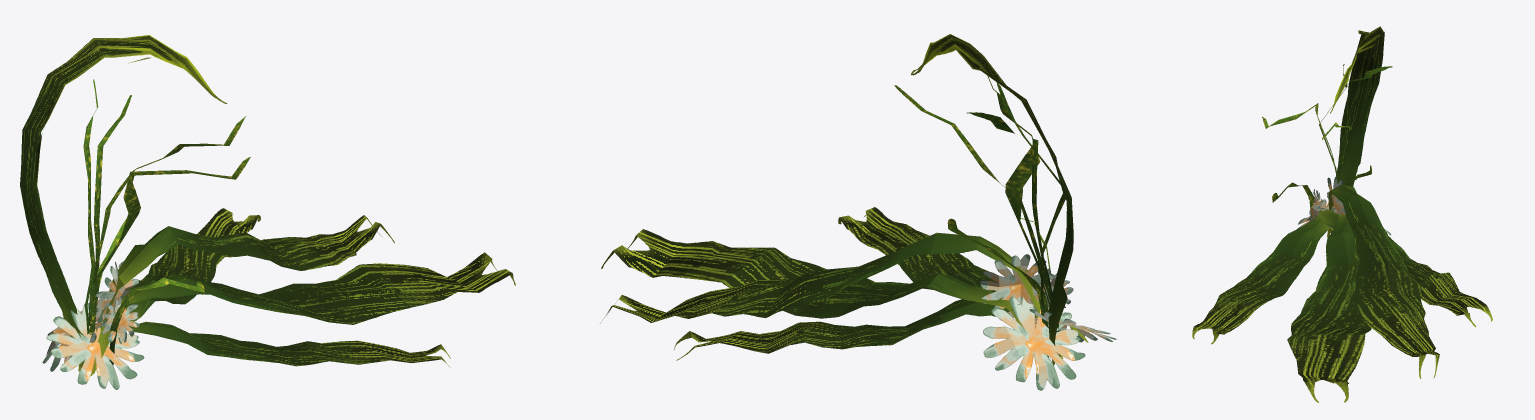
3 views of the same model, side by side, from view 1: azimuth 30°, elevation 25°; view 2: azimuth 150°, elevation 25°; view 3: azimuth 270°, elevation 25° (orthographic). The views are drawn at different scales.
Visible parts, largest first — view 1: A03.001; view 2: A03.001; view 3: A03.001.
Part boxes in pixels (x1,y1,x2,y2): A03.001: (20, 35, 515, 389); A03.001: (600, 34, 1116, 390); A03.001: (1192, 26, 1492, 402).
Size of the model in its own units: 1136 by 767 by 975.
